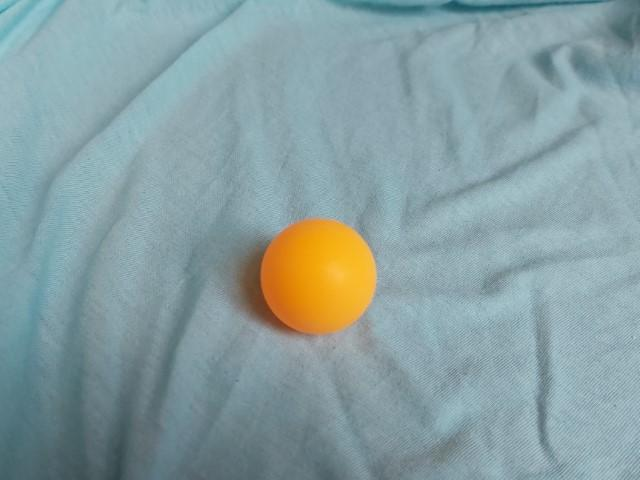oball: (253, 212, 380, 343)
